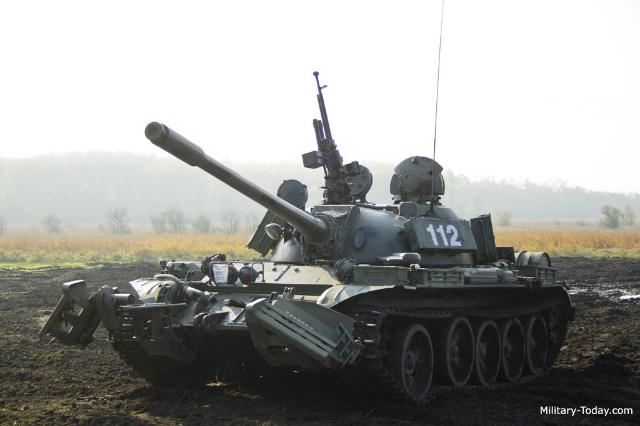tank: (97, 121, 579, 397)
